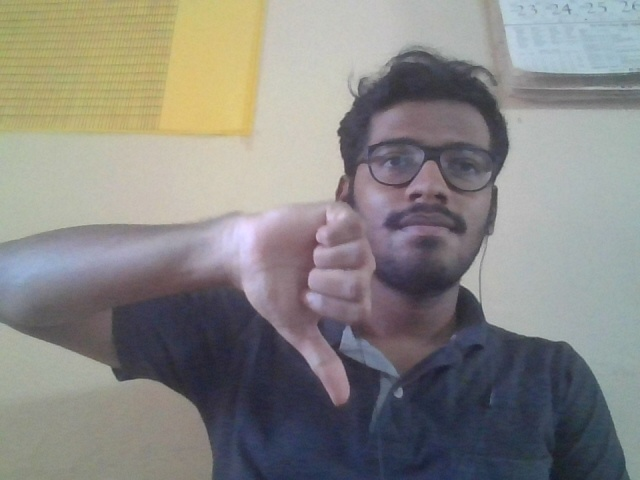ThumbsDown: (231, 200, 377, 406)
